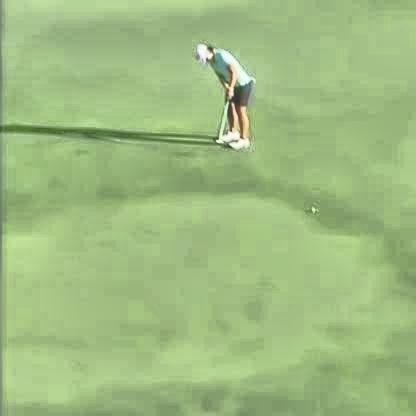golfball: (308, 201, 313, 208)
